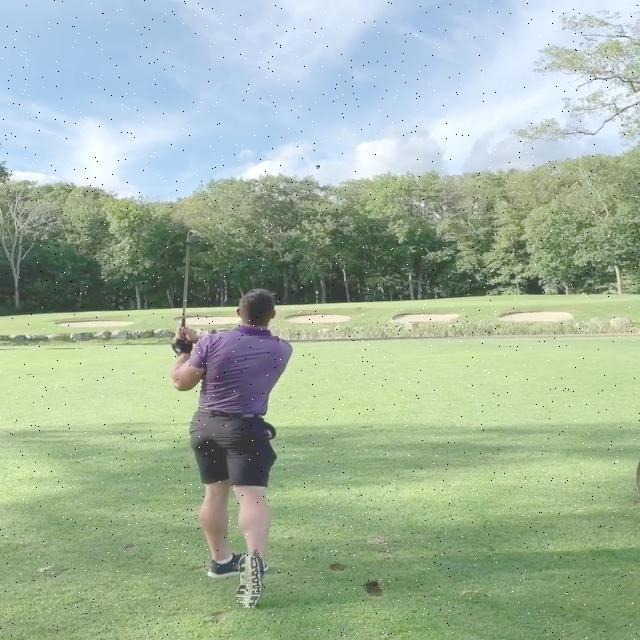golf club-handle: (170, 228, 199, 355)
golf club-head: (189, 227, 200, 236)
